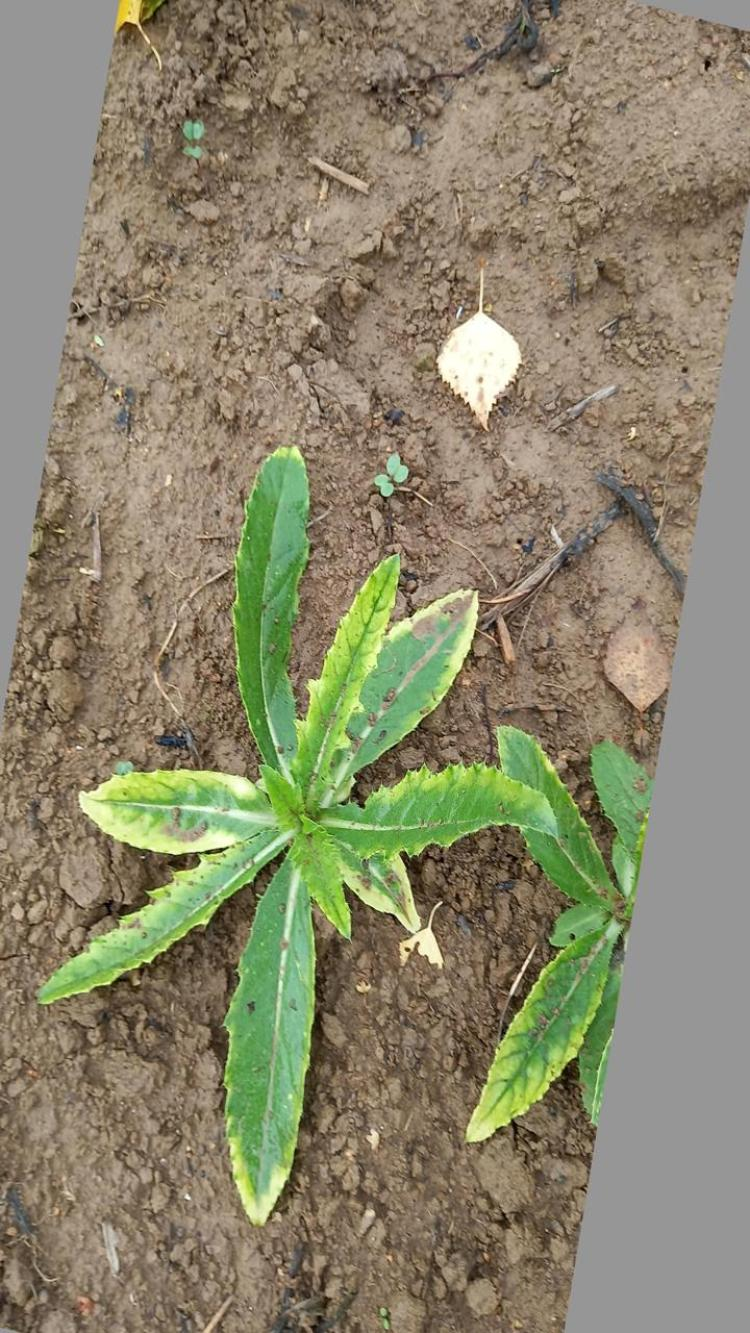bodyak: (36, 408, 560, 1219)
